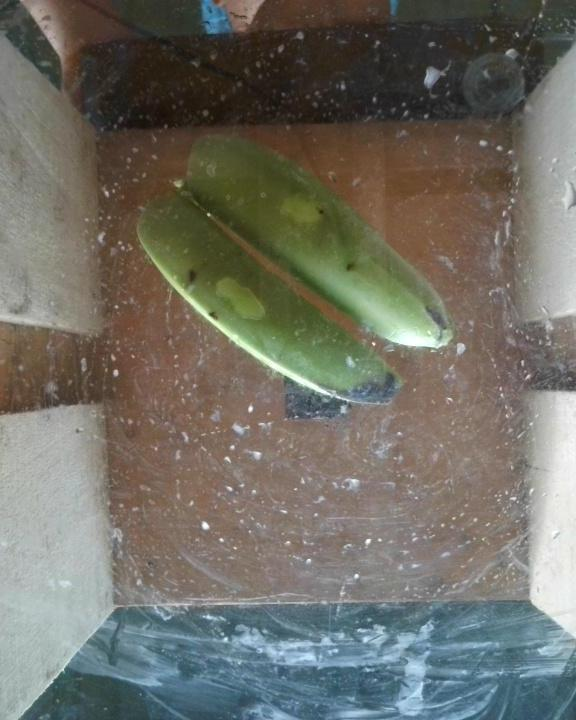CLASS B: (135, 130, 468, 419)
Class A: (314, 369, 395, 404), (417, 294, 446, 335), (176, 261, 204, 288), (337, 257, 363, 279), (204, 302, 228, 325)
